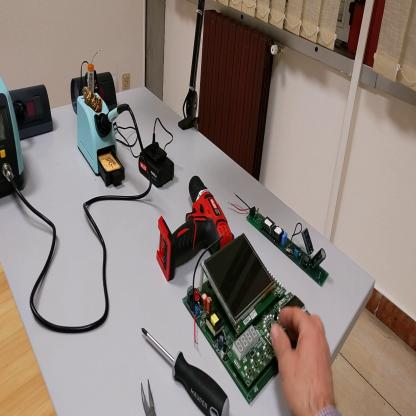electric screwdriver: (155, 174, 238, 282)
hand: (271, 307, 338, 416)
high voltage board: (229, 194, 331, 291)
low voltage board: (183, 231, 312, 405)
pliers: (140, 381, 157, 413)
screwdriver-: (142, 326, 229, 416)
socket: (10, 85, 54, 143), (70, 72, 117, 113)
welder base: (77, 61, 128, 191)
welder probe tip: (100, 101, 129, 134)
welder station: (2, 77, 27, 199)
working area: (2, 262, 57, 415)
